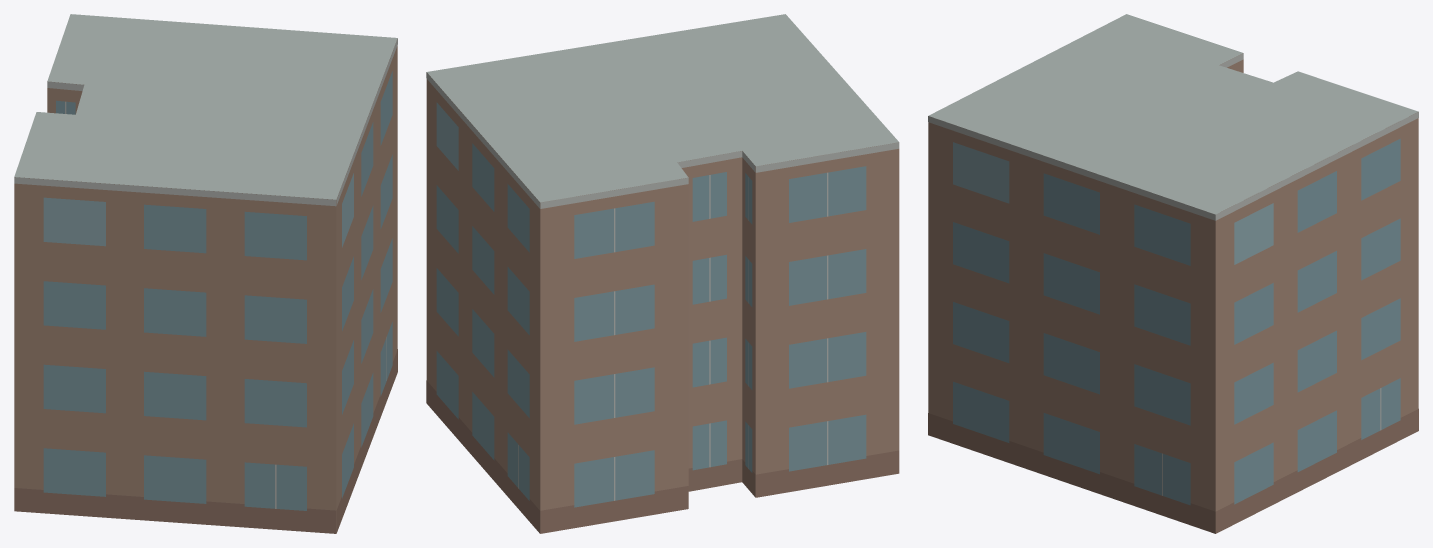
The model's file is survey-upis-32708678.glb.
The picture shows the model from 3 angles, left to right: view 1: azimuth 30°, elevation 25°; view 2: azimuth 150°, elevation 25°; view 3: azimuth 270°, elevation 25°; orthographic projection. The views are drawn at different scales.
Visible parts, largest first — view 1: survey-upis-32708678.tmp; view 2: survey-upis-32708678.tmp; view 3: survey-upis-32708678.tmp.
Part boxes in pixels (x1,y1,x2,y2): survey-upis-32708678.tmp: [14, 14, 397, 533]; survey-upis-32708678.tmp: [426, 14, 899, 533]; survey-upis-32708678.tmp: [928, 14, 1418, 533].
Size of the model in its own units: 16.78 by 12.45 by 17.34.
